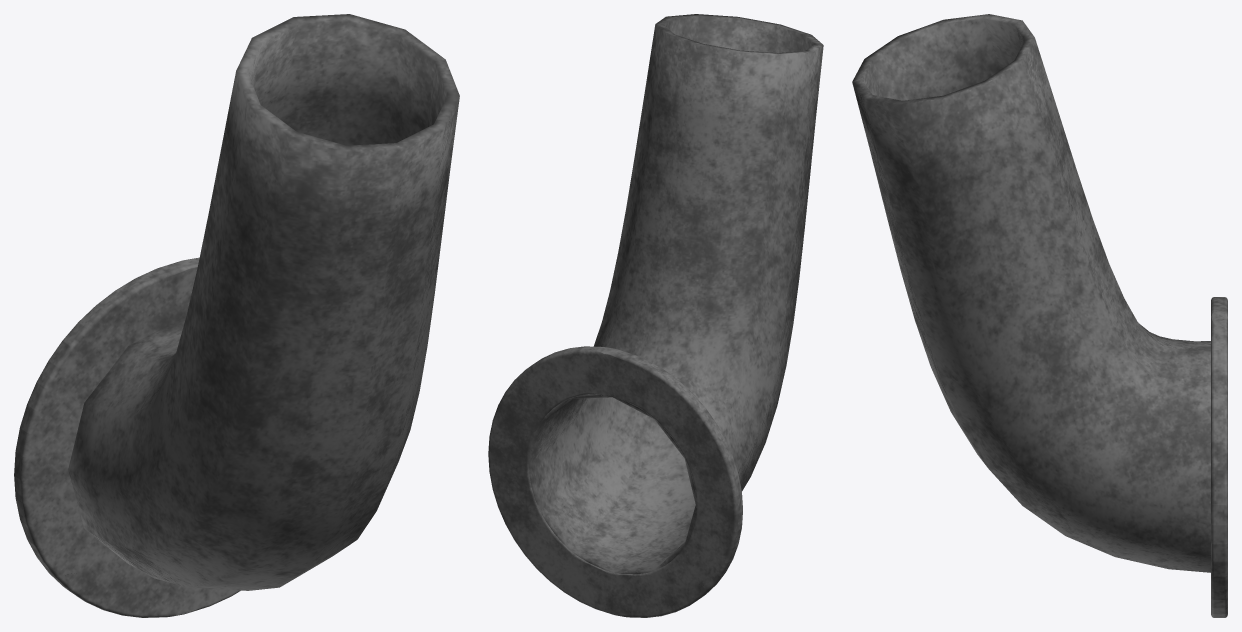
The model's file is turboBig-exhaust-outlet-straight-tube.fbx.
3 views of the same model, side by side, from view 1: azimuth 30°, elevation 25°; view 2: azimuth 150°, elevation 25°; view 3: azimuth 270°, elevation 25° (orthographic). The views are drawn at different scales.
Parts seen in each view (by area): view 1: turboBig-exhaust-outlet-straight-tube; view 2: turboBig-exhaust-outlet-straight-tube; view 3: turboBig-exhaust-outlet-straight-tube.
Part boxes in pixels (x1,y1,x2,y2): turboBig-exhaust-outlet-straight-tube: [14, 14, 459, 617]; turboBig-exhaust-outlet-straight-tube: [488, 14, 823, 617]; turboBig-exhaust-outlet-straight-tube: [852, 14, 1227, 617].
Bounding box in the file's own units: 9.6 × 18.65 × 11.23.
